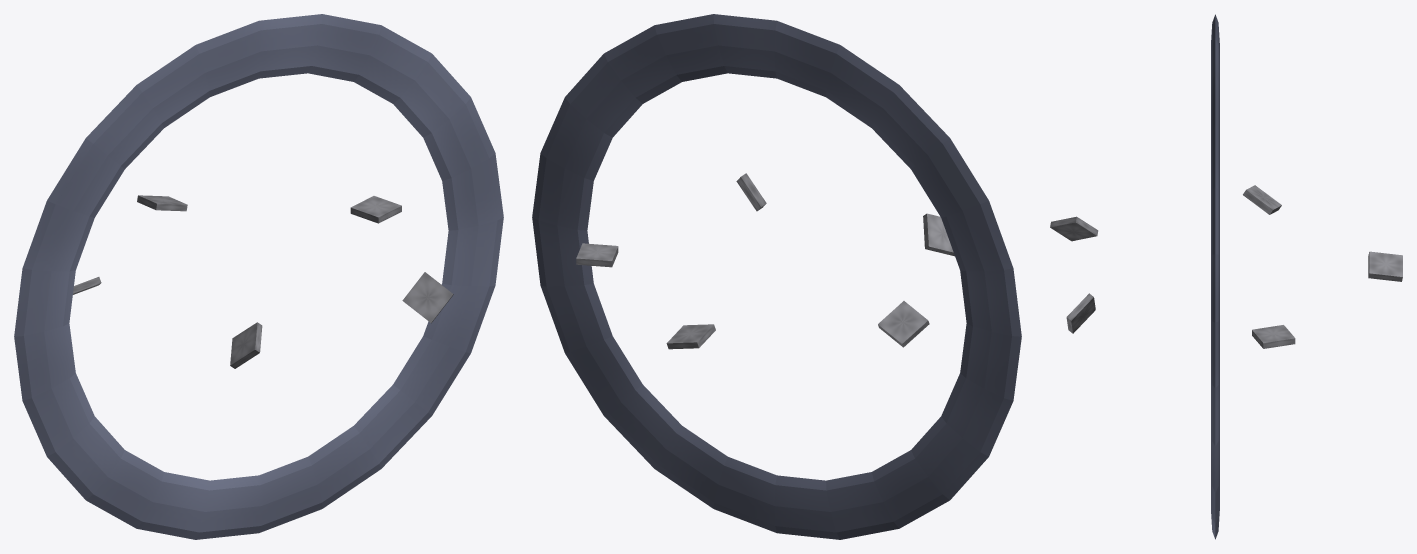
Rendered from gate-breach-shockwave.glb.
3 views of the same model, side by side, from view 1: azimuth 30°, elevation 25°; view 2: azimuth 150°, elevation 25°; view 3: azimuth 270°, elevation 25° (orthographic). The views are drawn at different scales.
Parts seen in each view (by area): view 1: breach-shockwave-ring, breach-shard-4, breach-shard-3, breach-shard-0, breach-shard-1; view 2: breach-shockwave-ring, breach-shard-2, breach-shard-3, breach-shard-1, breach-shard-0; view 3: breach-shockwave-ring, breach-shard-1, breach-shard-3, breach-shard-0, breach-shard-4, breach-shard-2.
Boxes of the visible parts, x1=… form: breach-shockwave-ring: x1=14, y1=14, x2=503, y2=539; breach-shard-4: x1=402, y1=272, x2=453, y2=323; breach-shard-3: x1=230, y1=322, x2=262, y2=368; breach-shard-0: x1=350, y1=196, x2=401, y2=223; breach-shard-1: x1=137, y1=195, x2=187, y2=211; breach-shockwave-ring: x1=532, y1=14, x2=1021, y2=539; breach-shard-2: x1=878, y1=301, x2=929, y2=347; breach-shard-3: x1=923, y1=213, x2=954, y2=256; breach-shard-1: x1=666, y1=324, x2=715, y2=349; breach-shard-0: x1=576, y1=243, x2=618, y2=267; breach-shockwave-ring: x1=1211, y1=14, x2=1219, y2=539; breach-shard-1: x1=1368, y1=251, x2=1402, y2=281; breach-shard-3: x1=1050, y1=216, x2=1098, y2=241; breach-shard-0: x1=1252, y1=325, x2=1295, y2=348; breach-shard-4: x1=1066, y1=293, x2=1095, y2=333; breach-shard-2: x1=1243, y1=185, x2=1281, y2=214.
Bounding box in the file's own units: 1.24 × 1.24 × 0.829.
Materials: 6 (6 with a texture image).
